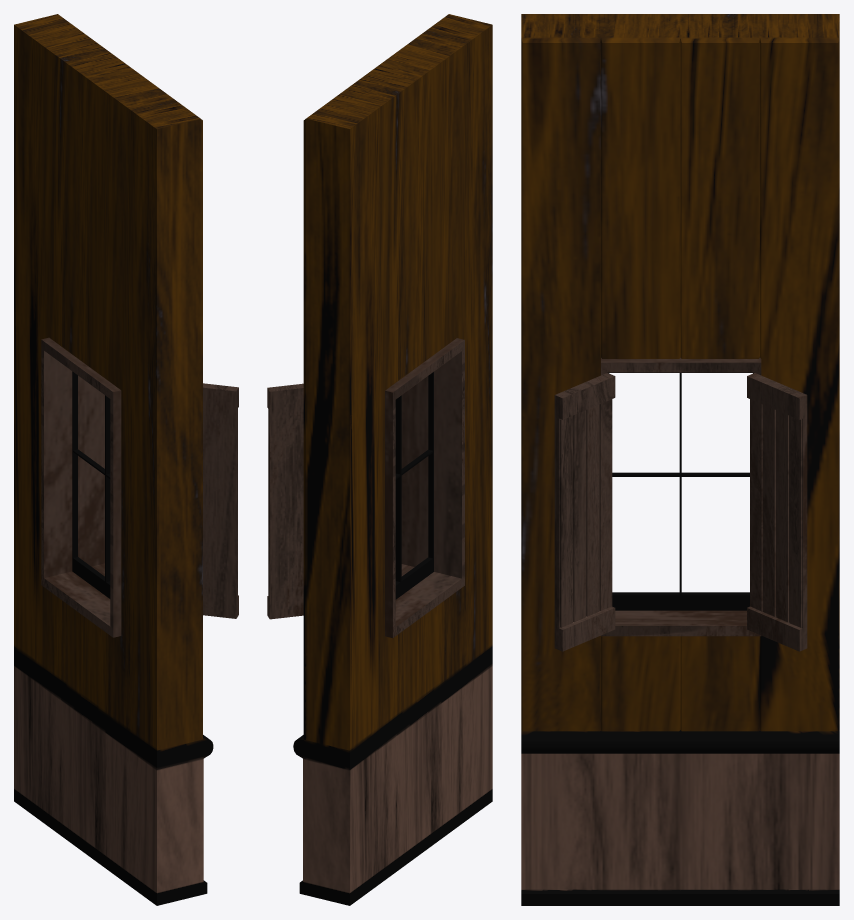
Rendered from woodWall2.fbx.
3 renders of one model, left to right at view 1: azimuth 30°, elevation 25°; view 2: azimuth 150°, elevation 25°; view 3: azimuth 270°, elevation 25°, orthographic. The views are drawn at different scales.
Visible parts, largest first — view 1: WoodWall2Unity; view 2: WoodWall2Unity; view 3: WoodWall2Unity.
Part boxes in pixels (x1,y1,x2,y2): WoodWall2Unity: (14, 14, 238, 905); WoodWall2Unity: (267, 14, 492, 905); WoodWall2Unity: (521, 14, 839, 905).
Size of the model in its own units: 43.85 by 300 by 100.
